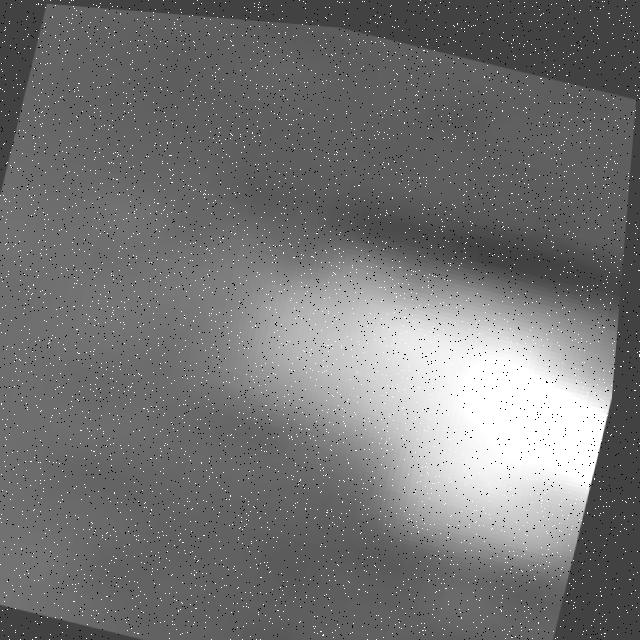person: (161, 202, 629, 583)
